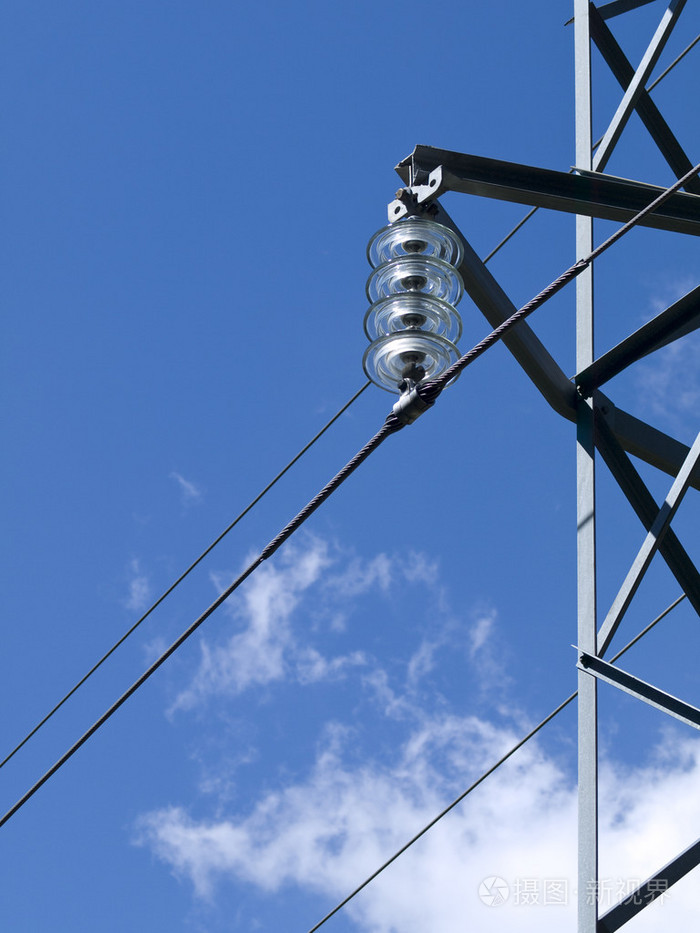insulator: (367, 219, 461, 391)
